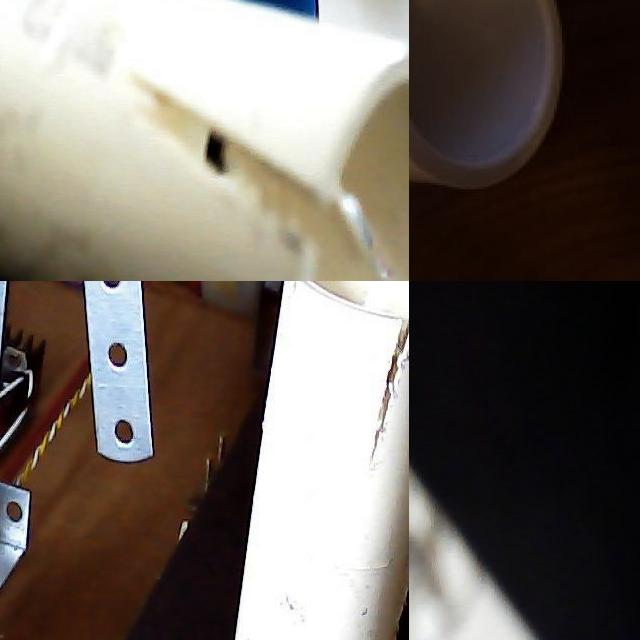Defective: (95, 16, 409, 281), (290, 281, 409, 504), (242, 575, 386, 640), (409, 483, 447, 621)
L Joint: (409, 0, 566, 193)
T Joint: (232, 281, 409, 640)
